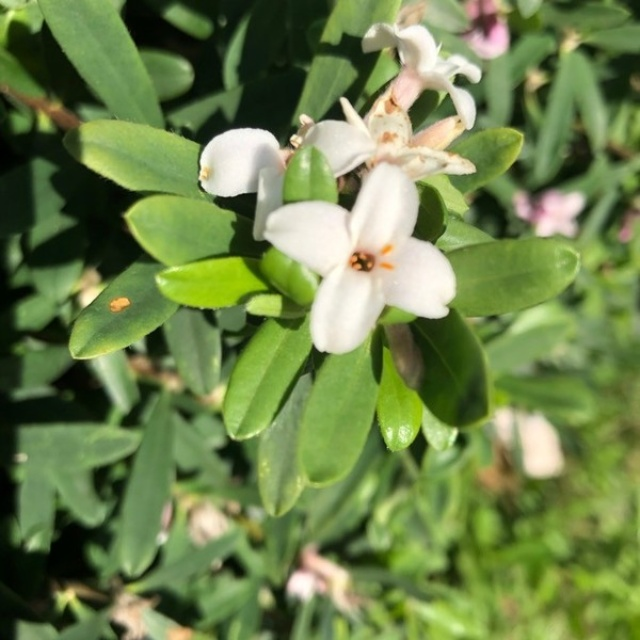obstacle: (114, 71, 558, 460)
